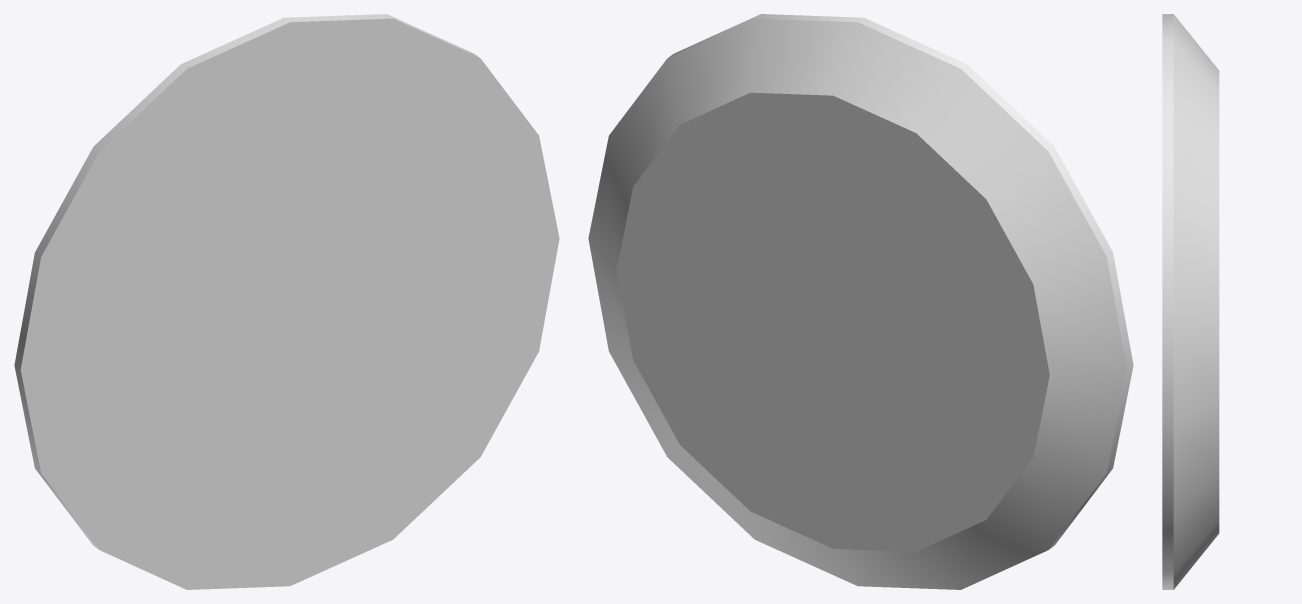
Rendered from But_Mini_1X1_off.FBX.
3 views of the same model, side by side, from view 1: azimuth 30°, elevation 25°; view 2: azimuth 150°, elevation 25°; view 3: azimuth 270°, elevation 25° (orthographic). The views are drawn at different scales.
Parts seen in each view (by area): view 1: Box001; view 2: Box001; view 3: Box001.
Boxes of the visible parts, bbox=[...] form: Box001: bbox=[14, 14, 559, 589]; Box001: bbox=[588, 14, 1133, 589]; Box001: bbox=[1162, 14, 1219, 589].
Size of the model in its own units: 0.5 by 0.5 by 0.1089.
